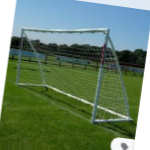goals: (15, 24, 134, 125)
